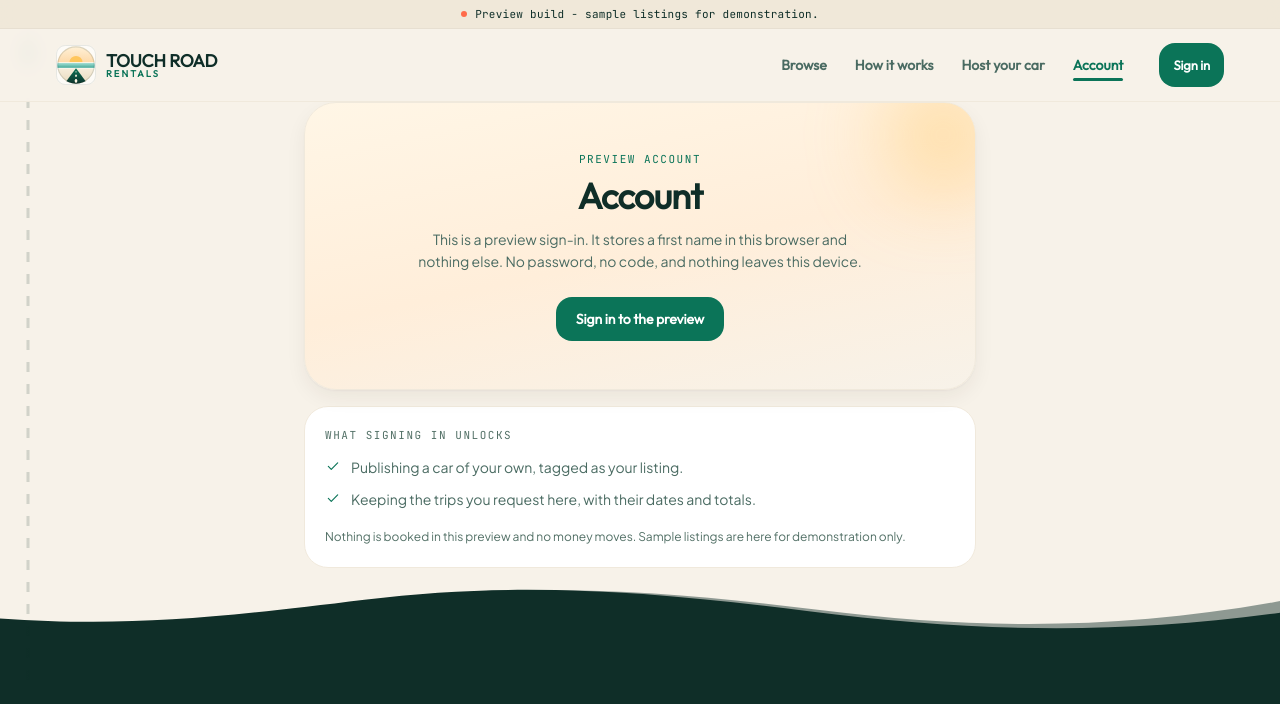
Scenario: signing up › remembers a host account, and which side it is on, across a reload
Click the button "Sign in to the preview".
click(640, 319)  # box [556,297,724,341]
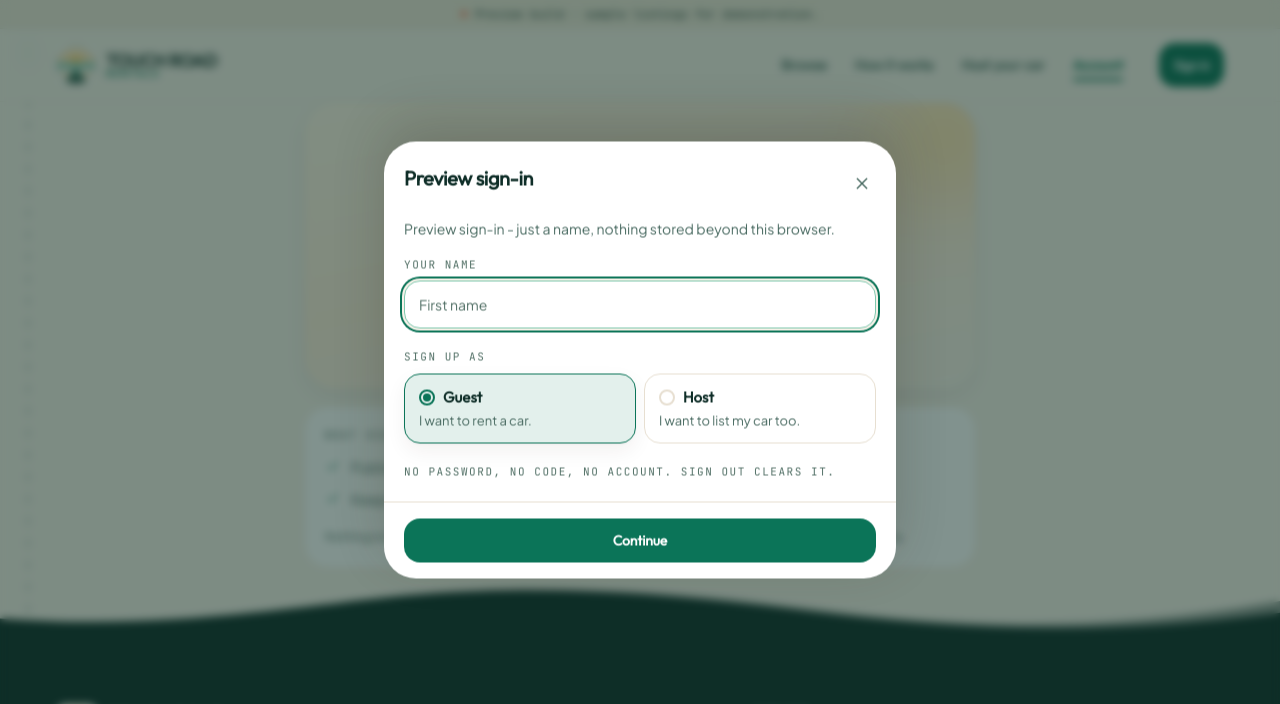
Type "Marisol" into the field with test id "auth-name-input".
click(640, 305); type("Marisol")  # box [404,281,876,329]
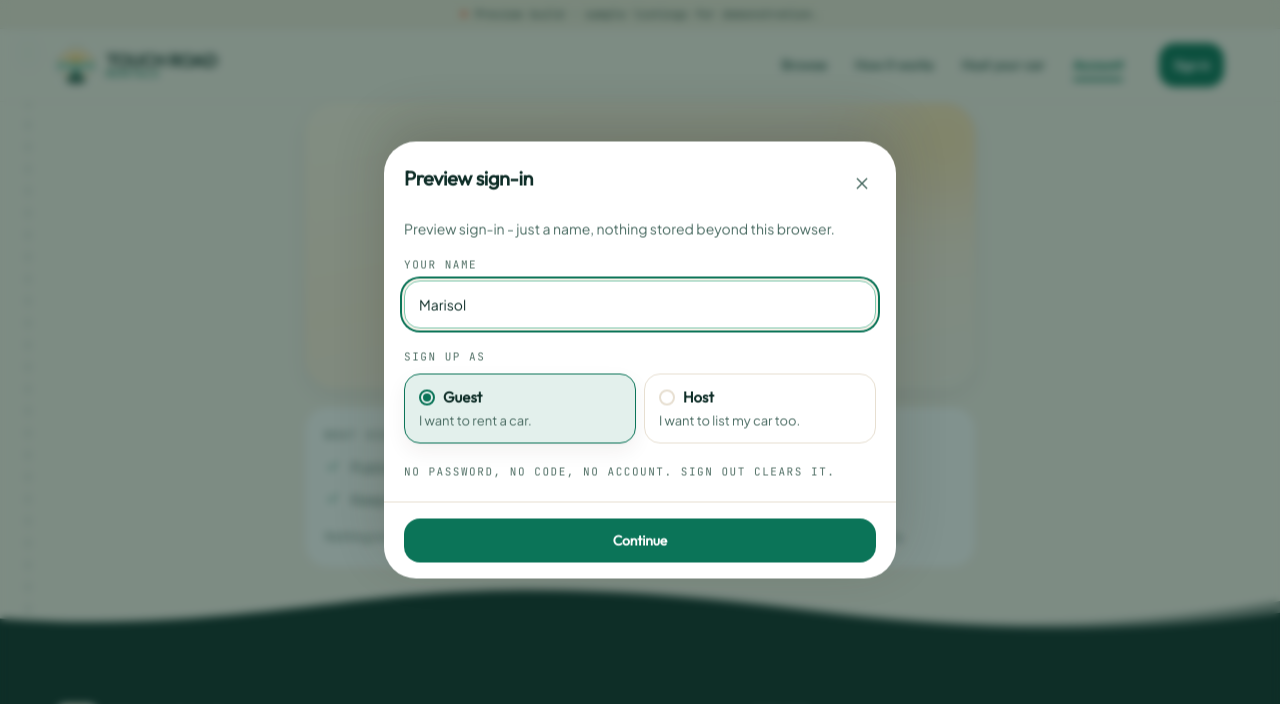
Click the radio button with test id "role-host".
click(760, 408)  # box [644,373,876,444]
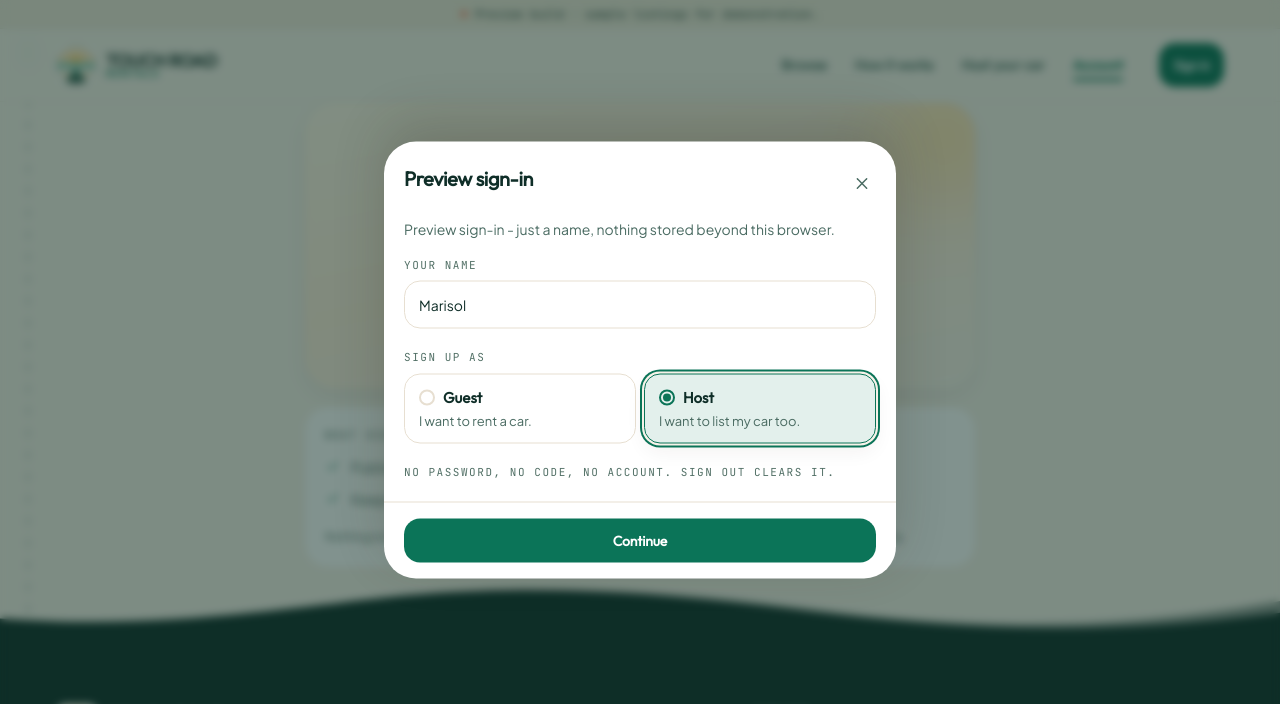
Click the button with test id "auth-submit".
click(640, 540)  # box [404,518,876,562]
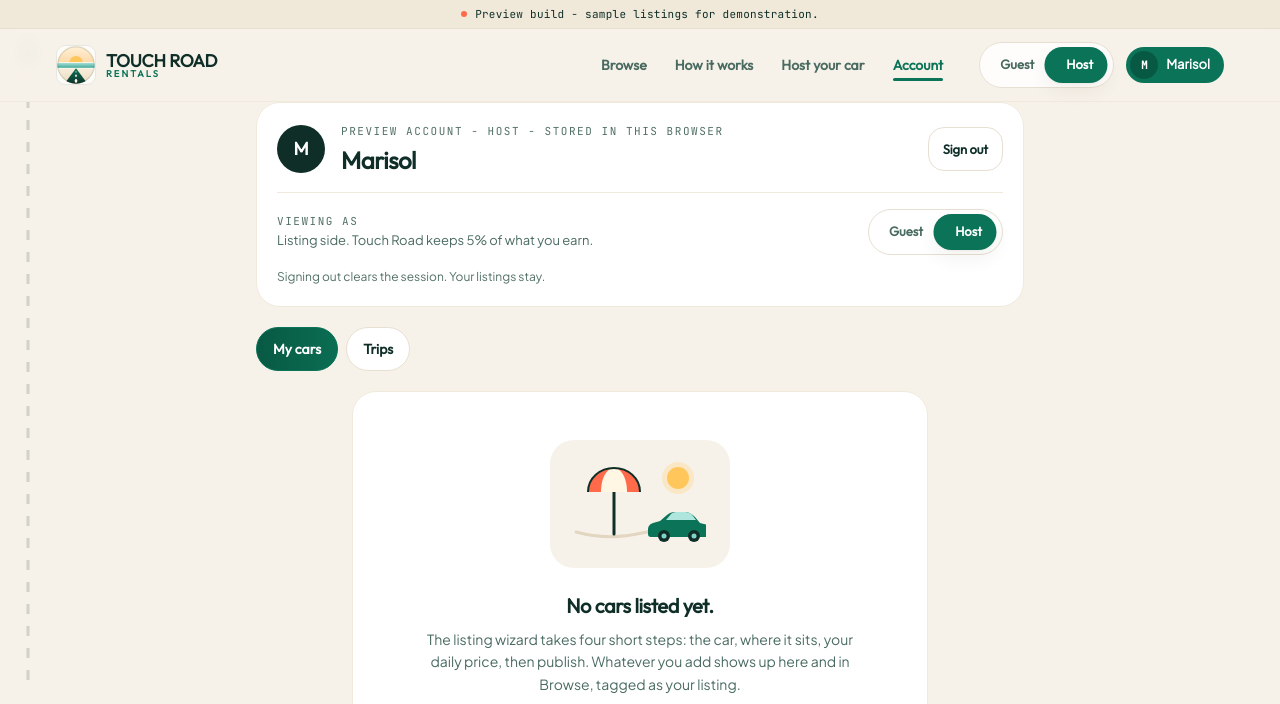
Now the text "Marisol" is shown, box [1166,55,1210,75]
